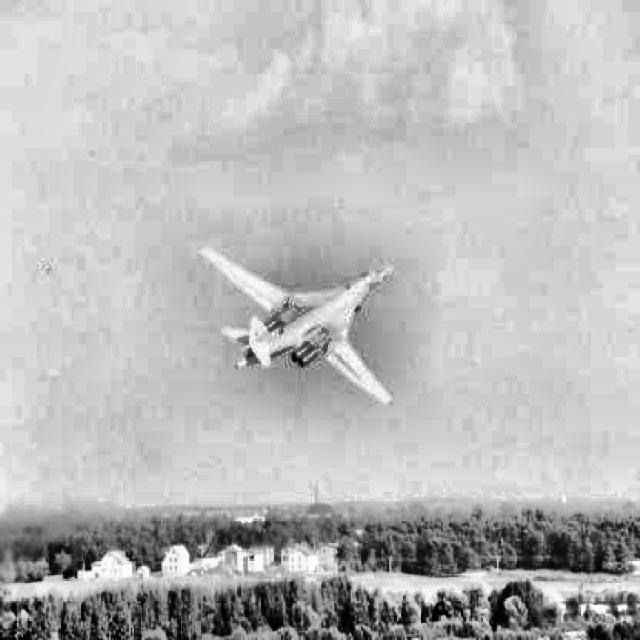Tu160: (198, 245, 394, 406)
